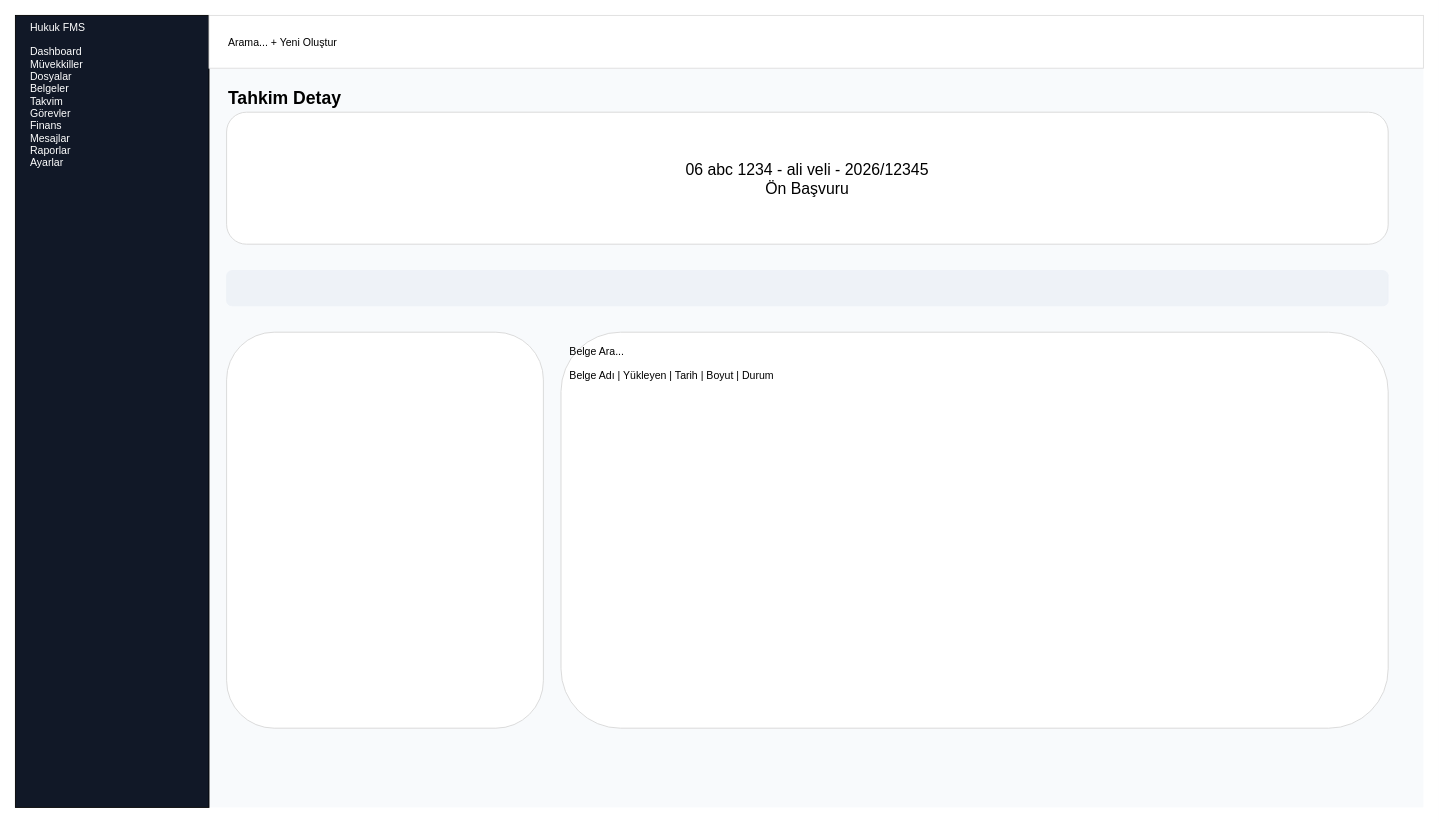
The diagram is 1439 pixels wide and 823 high, and some of its shapes have lost their labels. Each missing label, with the box of its shape:
Dosyalar | Genel Bakış: (226, 270, 1388, 306)
Klasörler 📁 Tüm Evraklar 📁 ceza 📁 hukuk └ Ön Başvuru: (226, 331, 543, 728)
